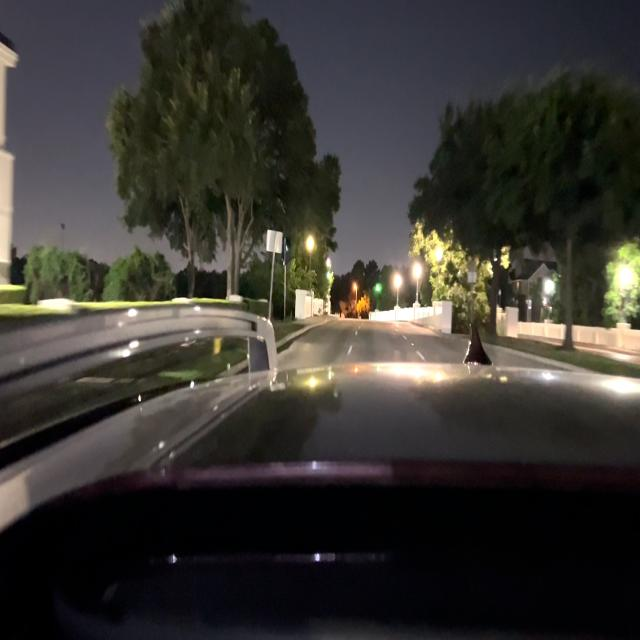back-of-sign: (266, 230, 282, 252)
